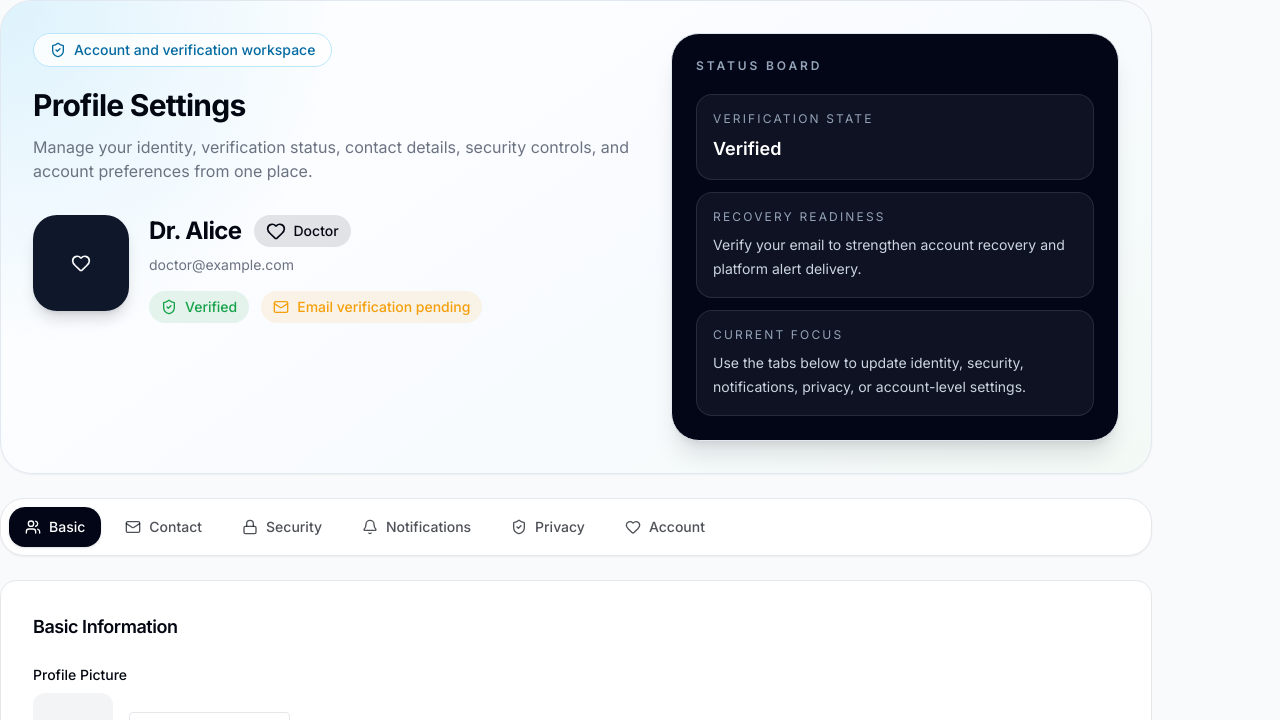
Test: ProfilePage verification state › shows the professional verification state as Verified
What coordinates should you click on to do the following:
click the button "Account"
I would click on:
 (665, 527)
Its box is [609,507,721,547].
(page scrolled)
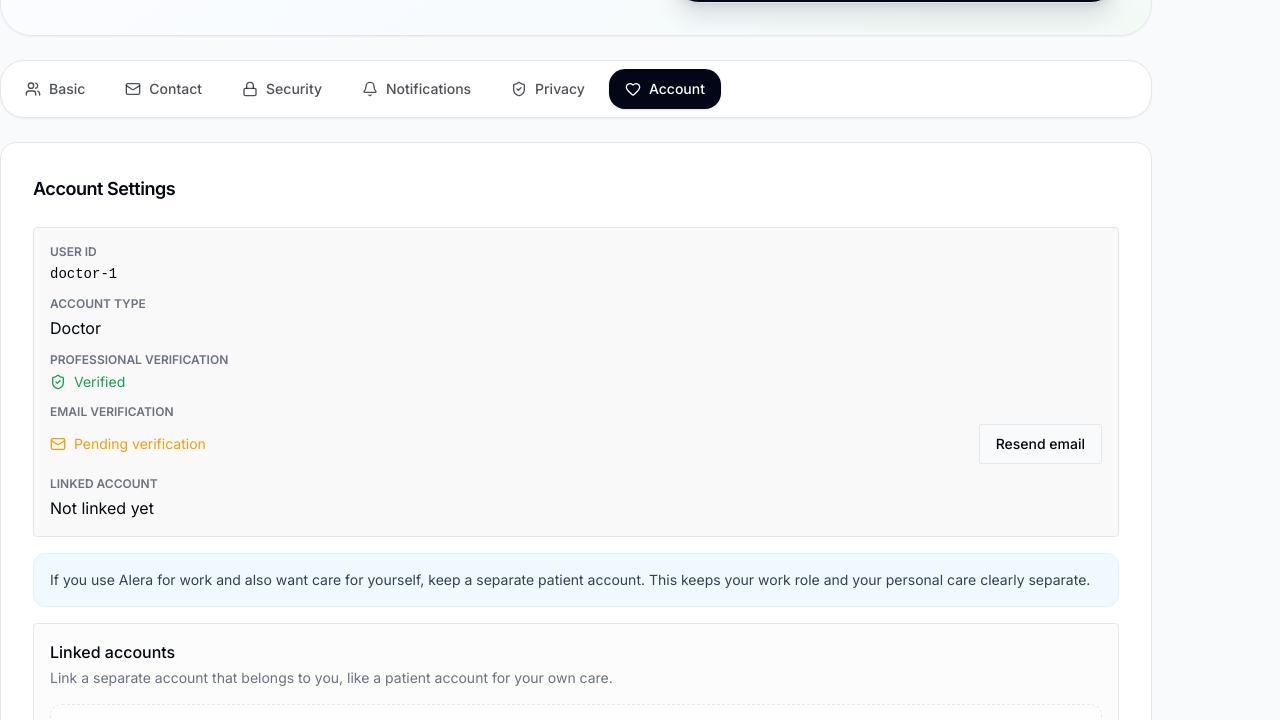
Expected: the element with test id "professional-verification-status" reads "Verified", [74,373,125,390]
Expected: the text "Professional Verification" is shown, [50,352,228,367]
